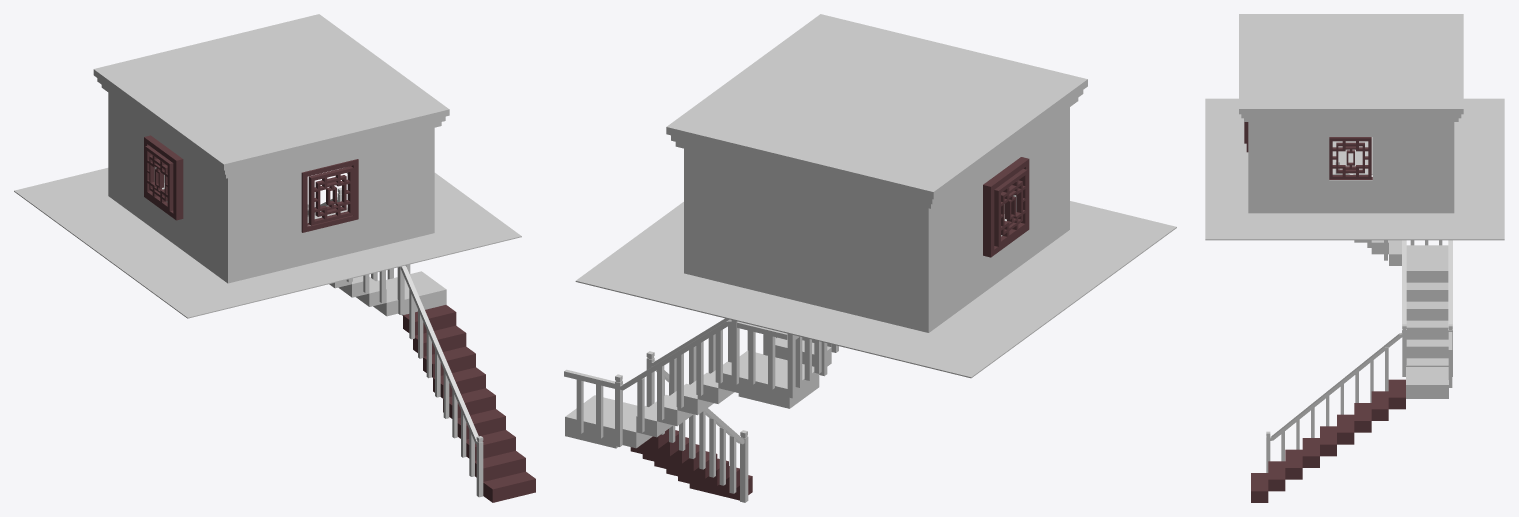
Rendered from staircase_v2.fbx.
The picture shows the model from 3 angles, left to right: view 1: azimuth 30°, elevation 25°; view 2: azimuth 150°, elevation 25°; view 3: azimuth 270°, elevation 25°; orthographic projection. The views are drawn at different scales.
Parts seen in each view (by area): view 1: upper_hall, Plane.007, Cube.028, Cube.094, Cube.019, Cube.018, Cube.083, Cube.080, Cube.097; view 2: upper_hall, Plane.007, Cube.021, Cube.018, Cube.083, Cube.094, Cube.028, Cube.084, Cube.097, Cube.080, Cube.104, Cube.110 (+1 smaller); view 3: upper_hall, Plane.007, Cube.028, Cube.083, Cube.094, Cube.018, Cube.080, Cube.084, Cube.097, Cube.085, Cube.021.
Boxes of the visible parts, box(x1,y1,x2,y2) form: upper_hall: box(93, 14, 449, 283); Plane.007: box(14, 168, 521, 318); Cube.028: box(403, 305, 535, 502); Cube.094: box(400, 265, 483, 497); Cube.019: box(301, 159, 358, 232); Cube.018: box(144, 135, 183, 220); Cube.083: box(329, 276, 398, 316); Cube.080: box(386, 271, 446, 315); Cube.097: box(307, 207, 404, 314); upper_hall: box(666, 14, 1087, 332); Plane.007: box(575, 201, 1176, 378); Cube.021: box(615, 319, 739, 446); Cube.018: box(983, 157, 1029, 257); Cube.083: box(622, 350, 767, 448); Cube.094: box(655, 370, 748, 502); Cube.028: box(630, 429, 752, 500); Cube.084: box(738, 356, 819, 408); Cube.097: box(646, 318, 767, 406); Cube.080: box(565, 395, 637, 448); Cube.104: box(787, 334, 827, 398); Cube.110: box(564, 369, 614, 438); upper_hall: box(1239, 14, 1463, 213); Plane.007: box(1205, 98, 1504, 240); Cube.028: box(1251, 379, 1405, 502); Cube.083: box(1406, 263, 1448, 366); Cube.094: box(1266, 333, 1402, 472); Cube.018: box(1329, 137, 1372, 179); Cube.080: box(1406, 367, 1448, 398); Cube.084: box(1406, 245, 1448, 263); Cube.097: box(1402, 240, 1406, 376); Cube.085: box(1354, 240, 1401, 265); Cube.021: box(1448, 240, 1452, 376).
Bounding box in the file's own units: 869 × 909 × 696.
